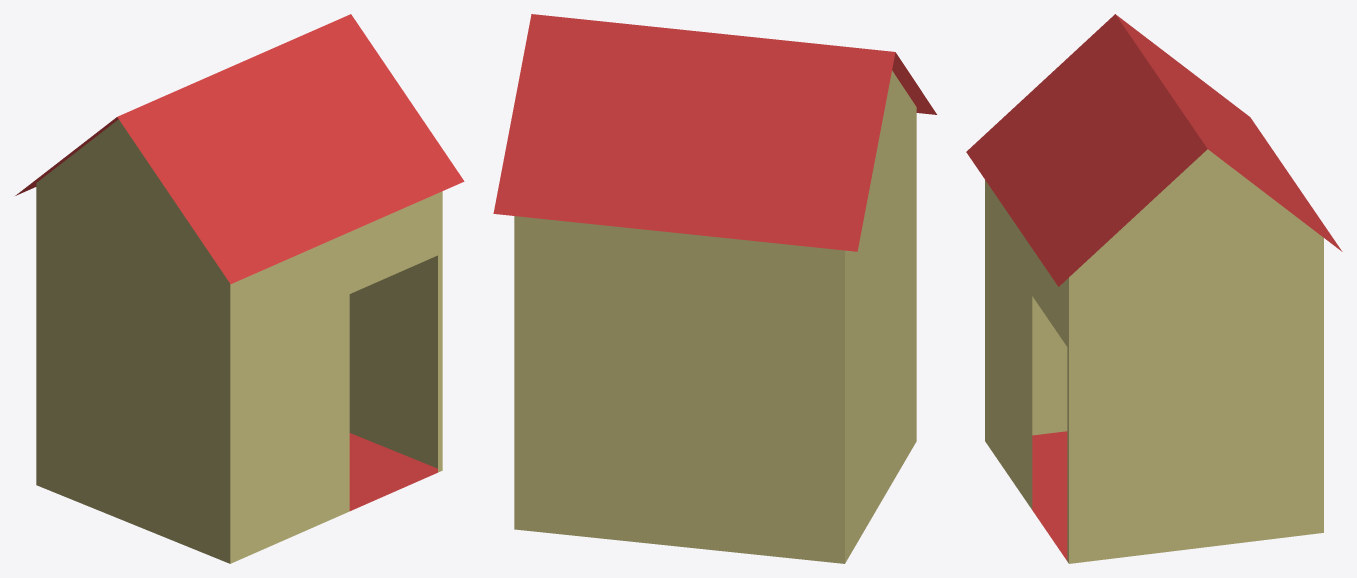
The picture shows the model from 3 angles, left to right: view 1: azimuth 30°, elevation 25°; view 2: azimuth 150°, elevation 25°; view 3: azimuth 270°, elevation 25°; orthographic projection. The views are drawn at different scales.
Size of the model in its own units: 13.13 by 12.3 by 14.58.
